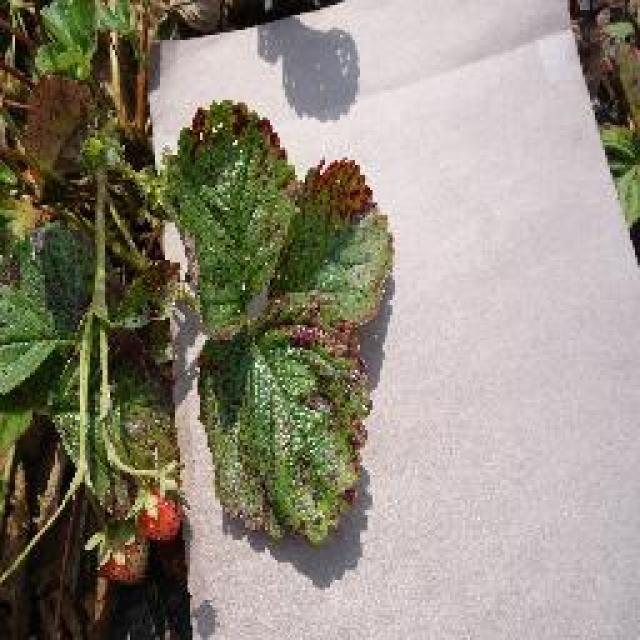Strawberry___Leaf_scorch: (0, 0, 410, 640)
